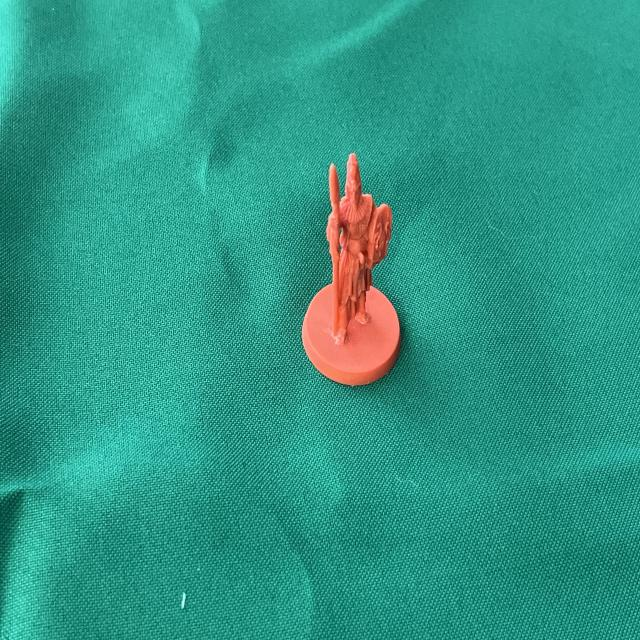amon_follower: (302, 153, 400, 385)
